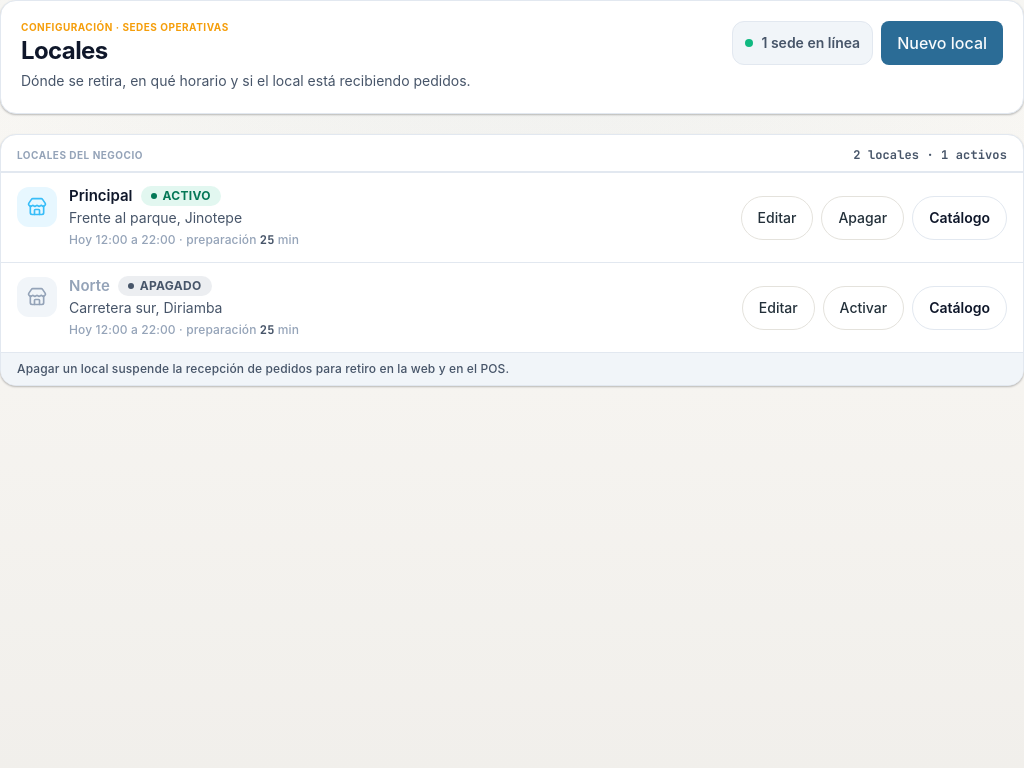
it: AdminLocationsPage › borra un local después de confirmar
This screenshot has width=1024, height=768.
Click the button with aria-label "Editar local Norte" at (778, 308), box [742,286,815,330]
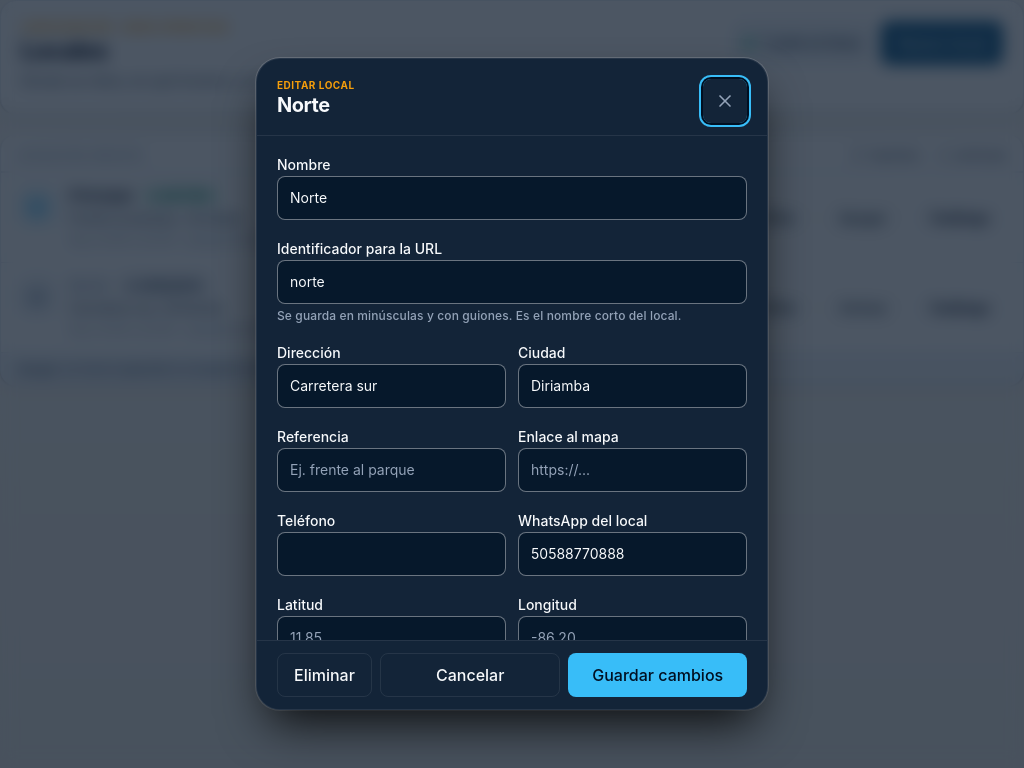
Click the button with aria-label "Eliminar local Norte" at (324, 675), box [277,653,372,697]
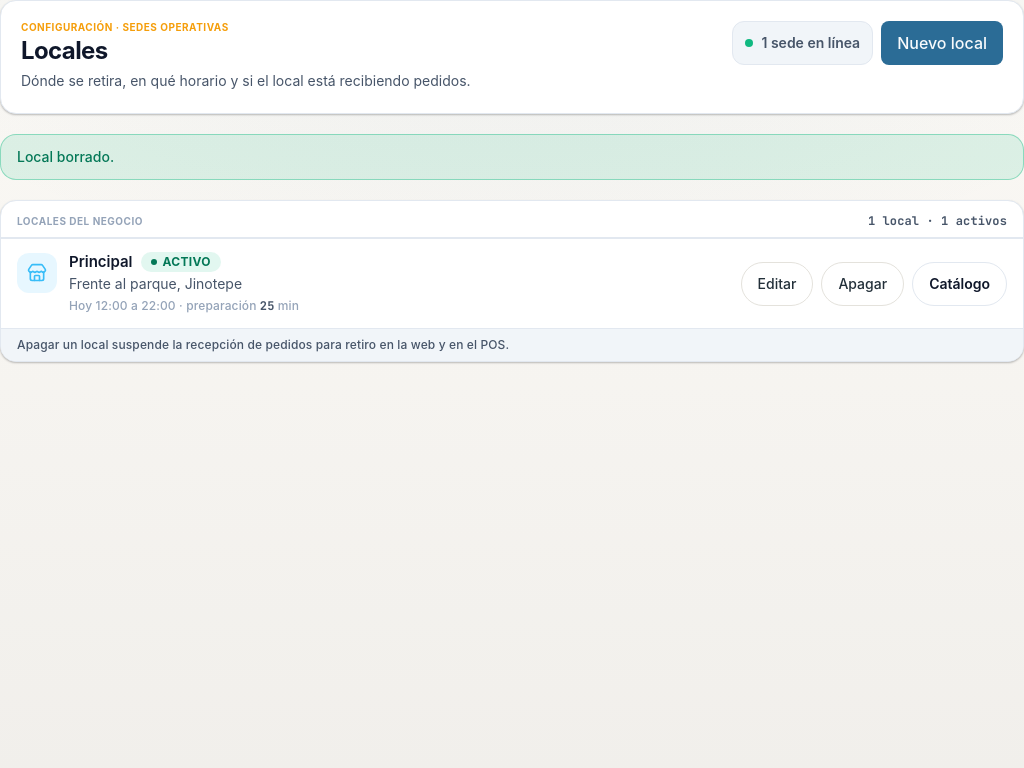
Expected: the text "Local borrado." is shown, [0,134,1023,180]
Expected: the button "Editar local Norte" is gone
